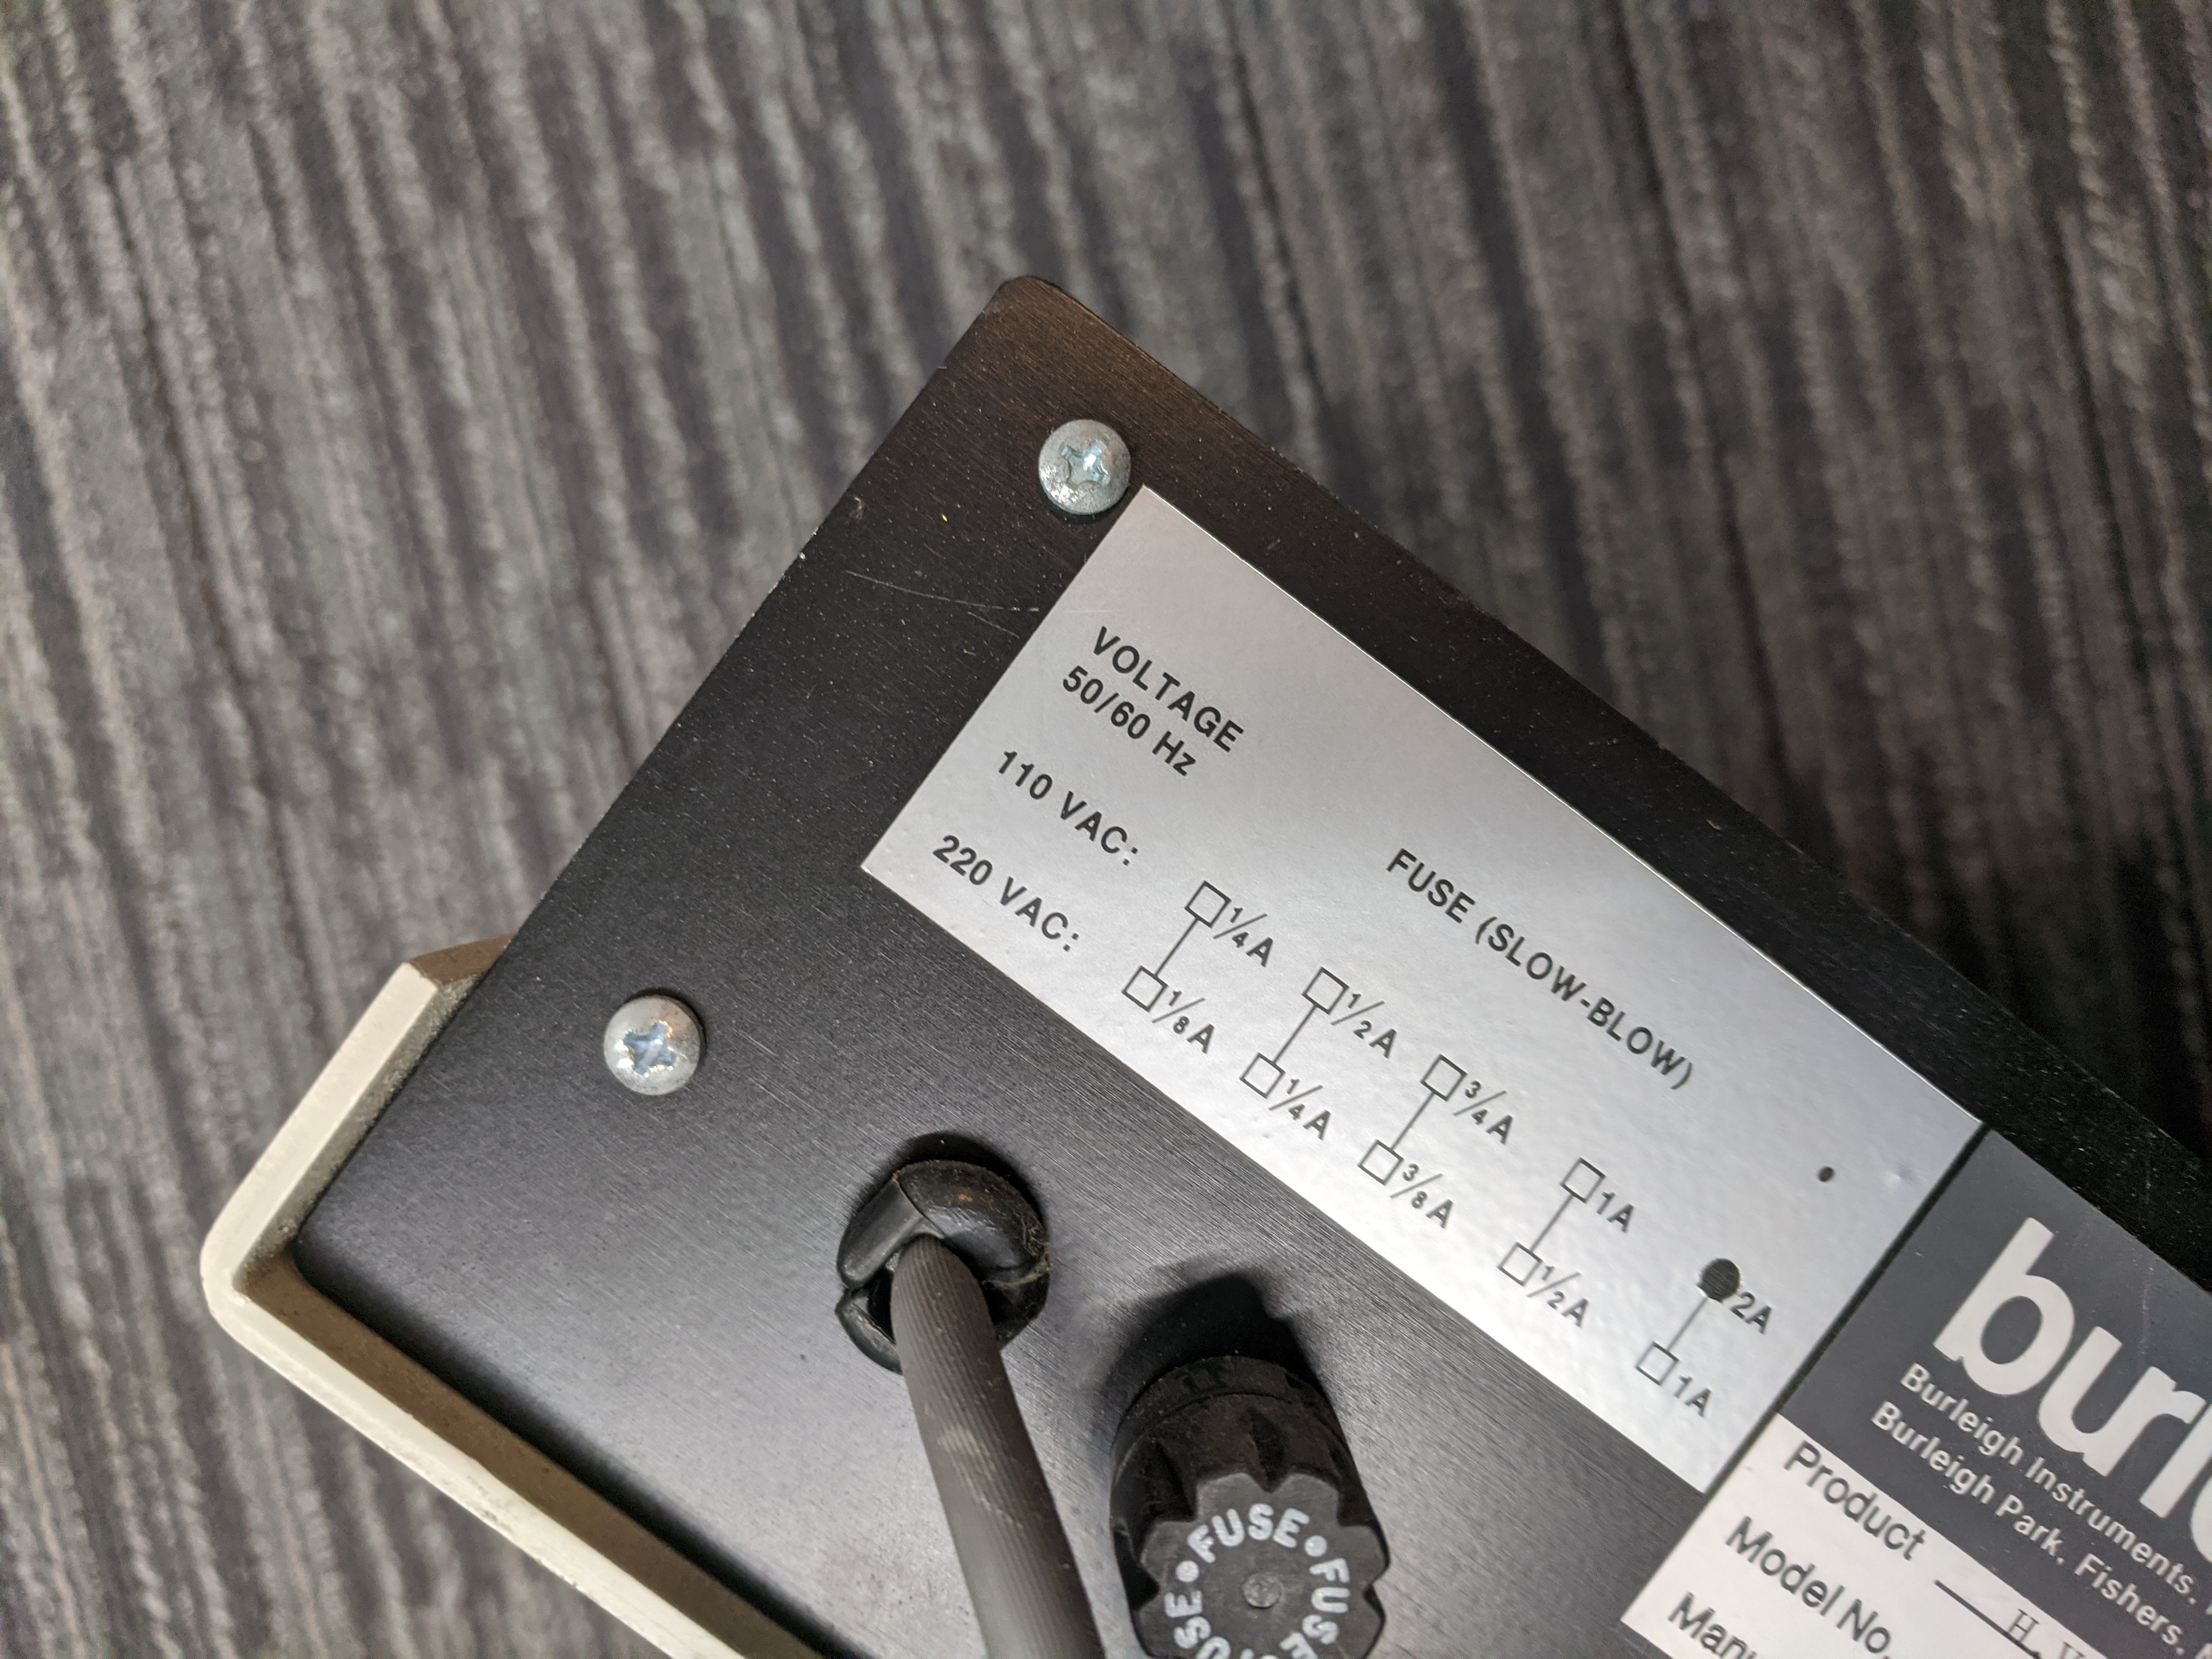cross_recessed_screw: (1031, 410, 1137, 514), (597, 993, 702, 1087)
